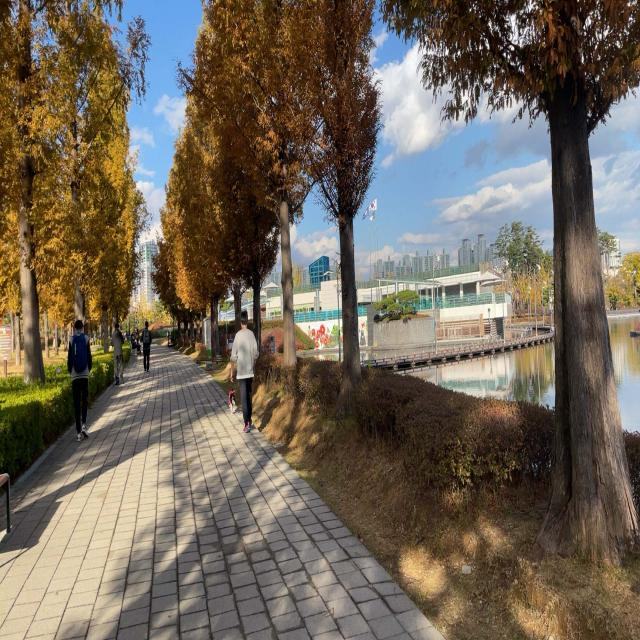Leashed_Dog: (228, 374, 247, 416)
